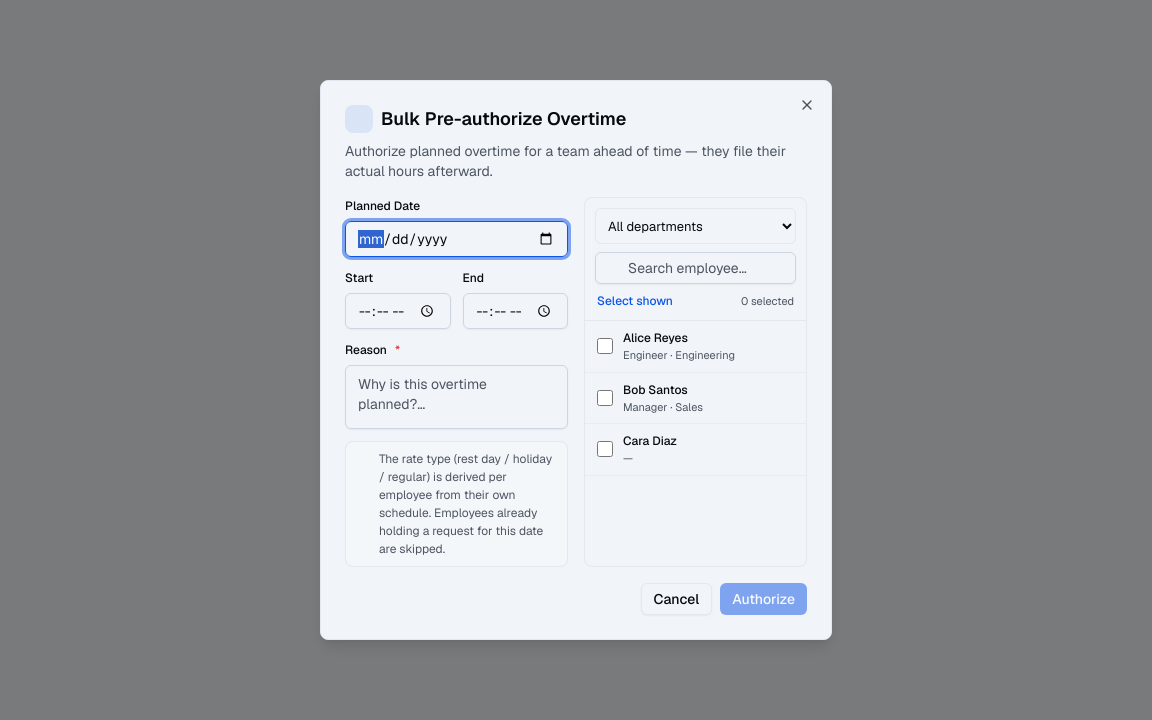
it: OvertimeBulkAuthorizeDialog — filtering + selection › toggles an individual checkbox on and off
The image size is (1152, 720).
What coordinates should you click on to do the following:
click the checkbox labelled "Alice Reyes Engineer · Engineering"
I would click on:
 (605, 346)
Its box is [597, 338, 613, 354].
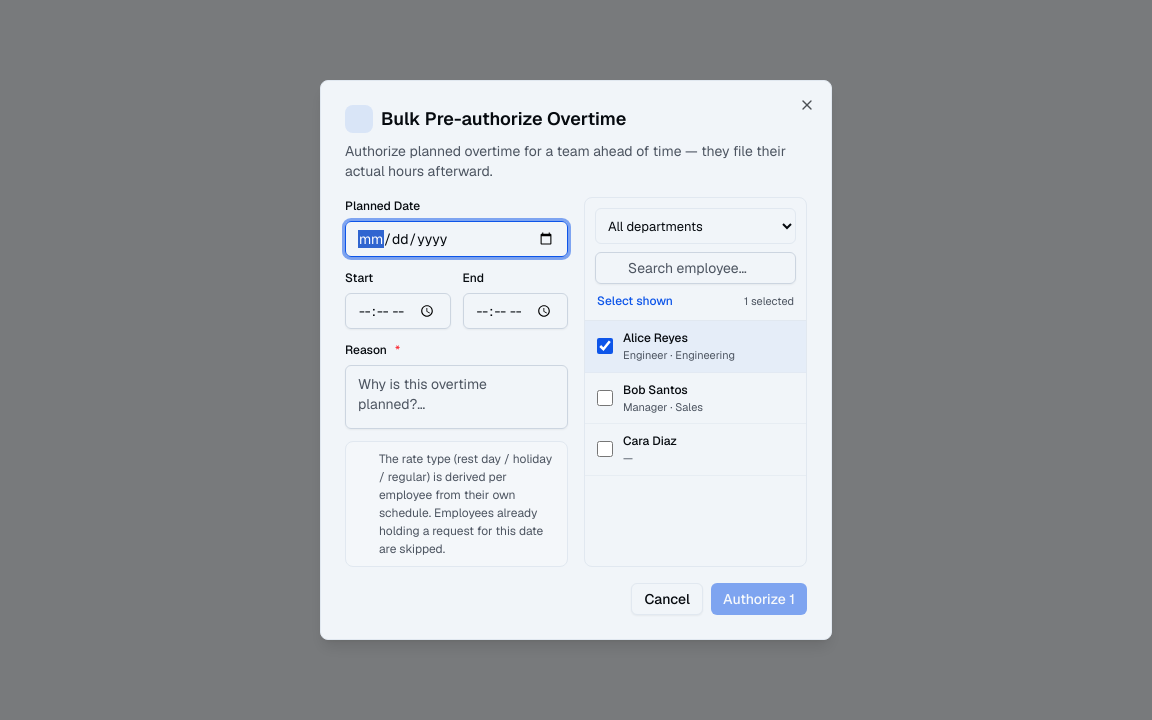
Result: the text "1 selected" is shown at [744, 293, 794, 309]
What coordinates should you click on to do the following:
click the checkbox labelled "Alice Reyes Engineer · Engineering"
I would click on:
 (605, 346)
Its box is [597, 338, 613, 354].
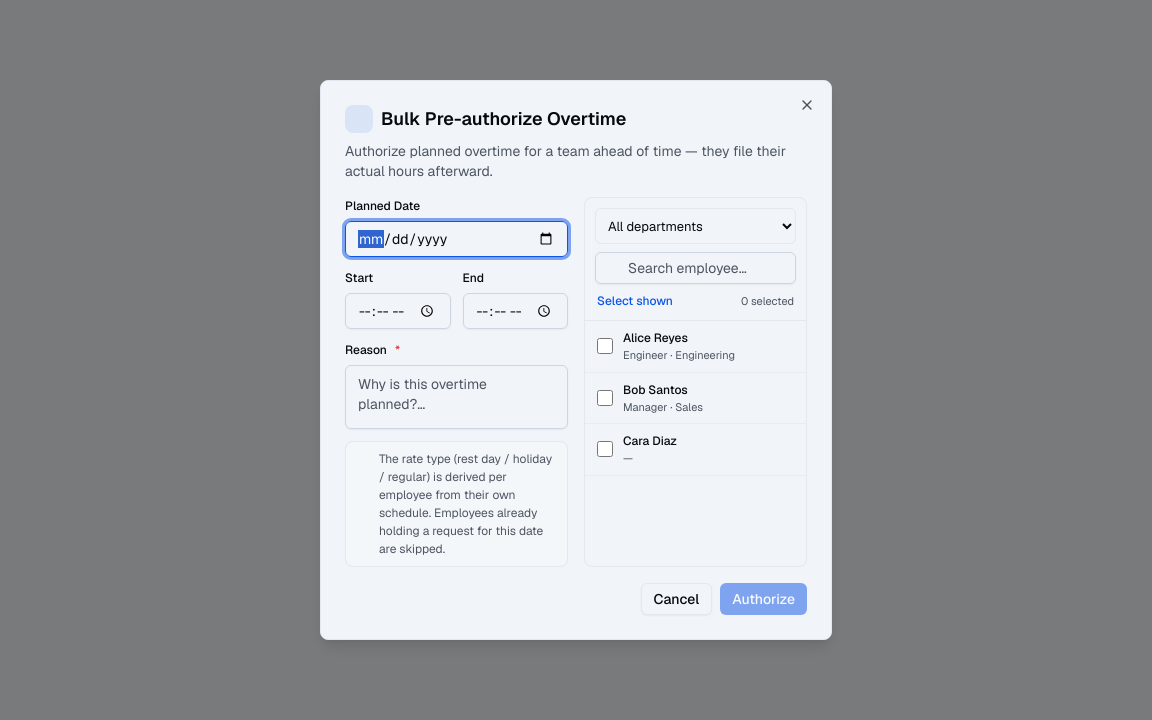
Result: the text "0 selected" is shown at [741, 293, 794, 309]
